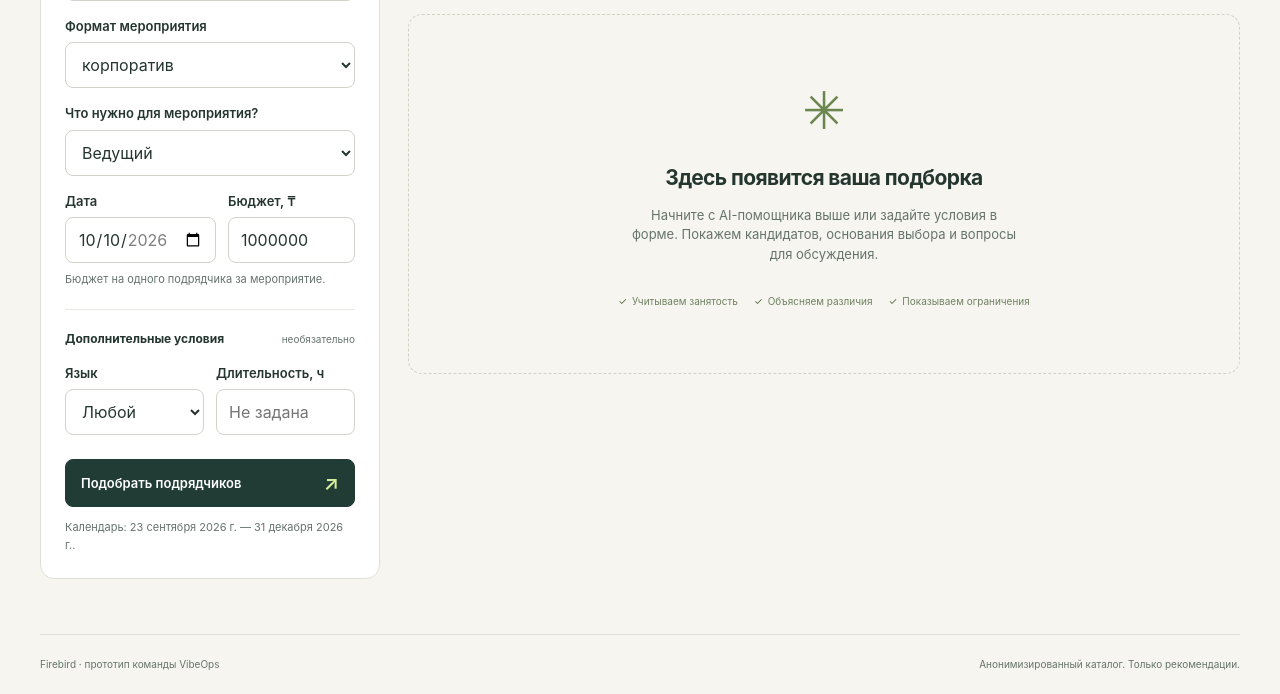
Test: Firebird UI contract › distinguishes no_category_in_city from network failures
(page scrolled)
What coordinates should you click on to do the following:
click the button "Подобрать подрядчиков ↗"
I would click on:
 (210, 483)
Its box is [65,459,355,507].
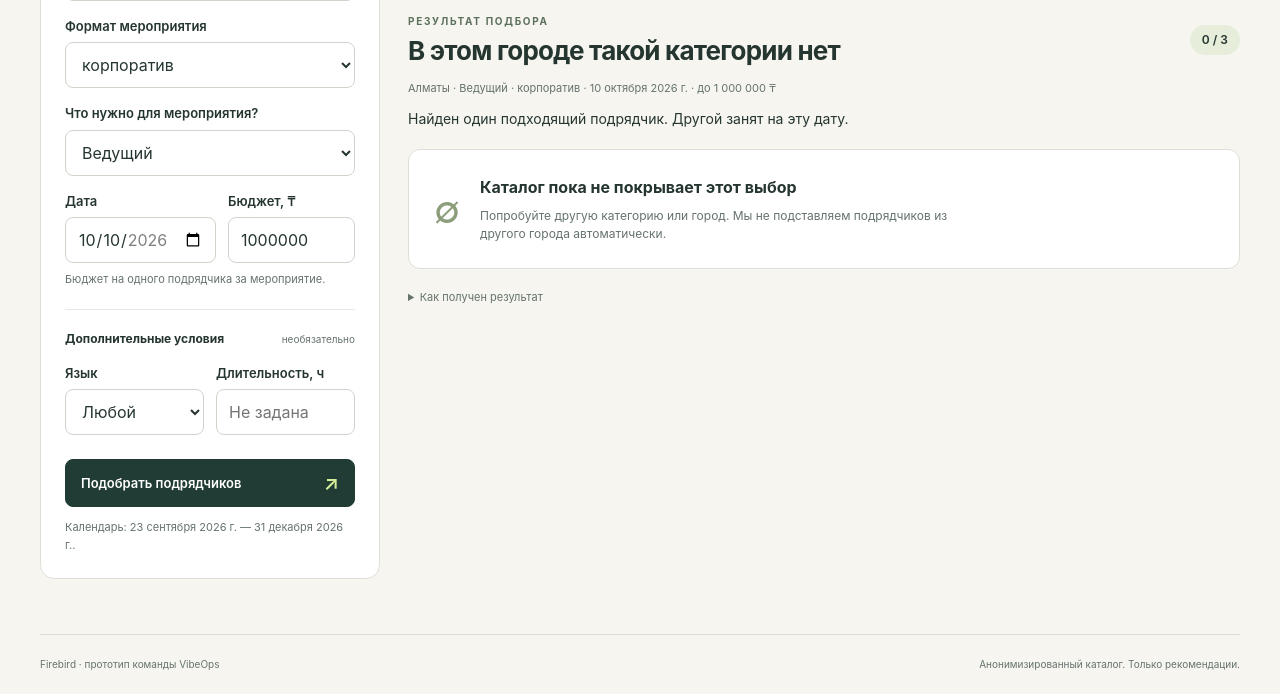
Expected: the heading "В этом городе такой категории нет" is shown, [408,35,840,66]
